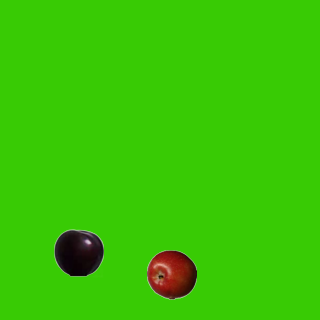Apple Braeburn: (146, 249, 196, 299)
Cherry Wax Black: (53, 227, 103, 277)
